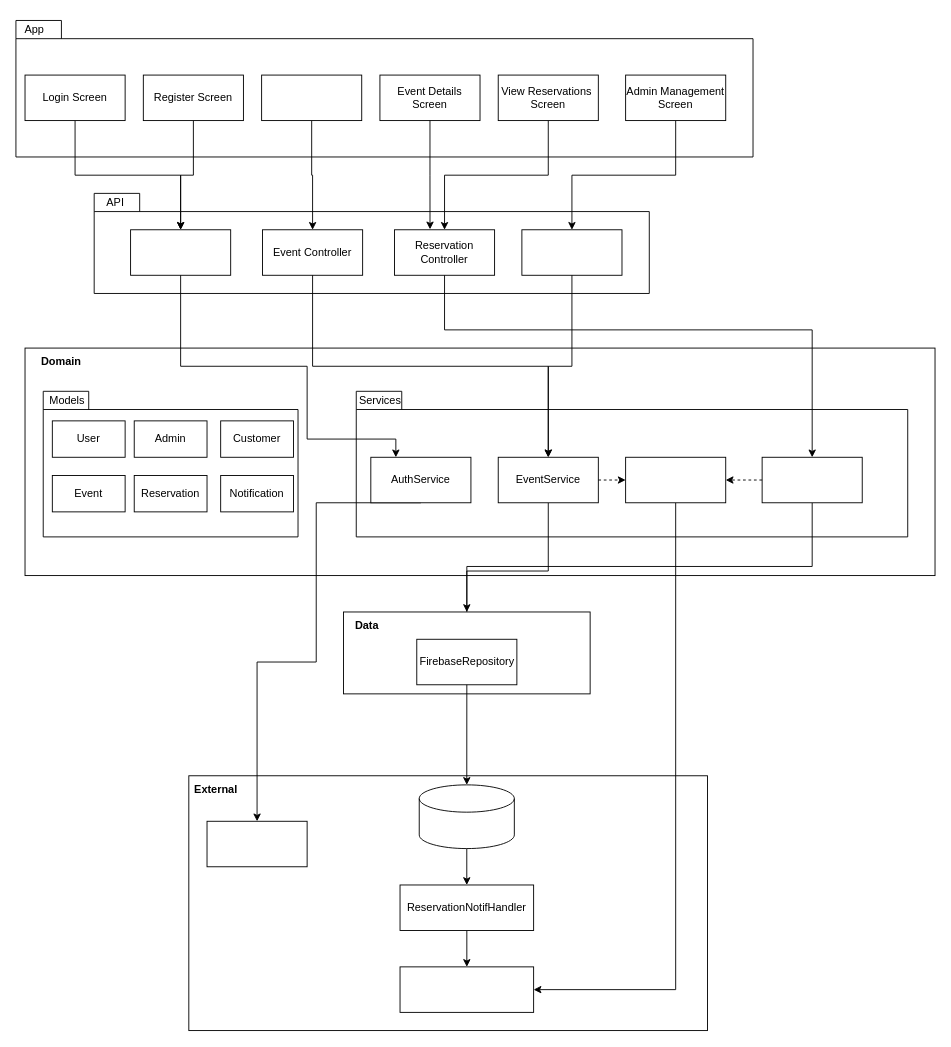
This 951x1047 diagram has some shape labels left out. The shapes that lost their labels are listed below. From the top down, each one's centre as x and y in pixels, then its label:
the point at 311,97: Event List Screen
the point at 180,252: AuthController
the point at 571,252: Admin Controller
the point at 675,479: NotifService
the point at 811,479: ReservationService
the point at 466,816: Firebase Realtime DB
the point at 256,843: Firebase Authentication
the point at 466,989: Email/SMS service
